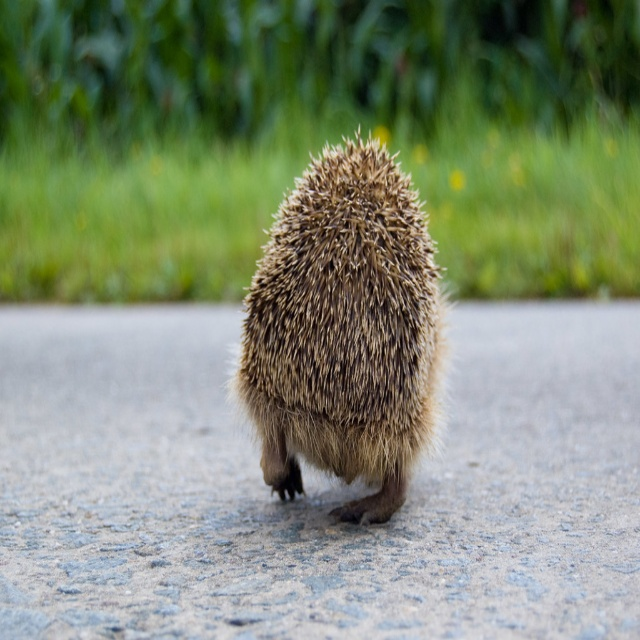Hedgehog: (215, 117, 459, 532)
